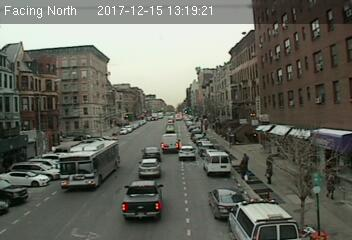bus: (59, 139, 120, 190)
car: (121, 180, 162, 220), (207, 187, 248, 222), (137, 158, 162, 178), (177, 146, 196, 161), (141, 146, 161, 160)
pedestrian: (264, 159, 275, 185), (240, 153, 250, 181)
police: (226, 198, 301, 240)
truck: (203, 151, 232, 175), (161, 133, 180, 151)
